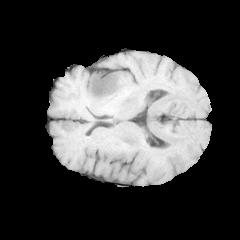glioma: (88, 71, 124, 99)
